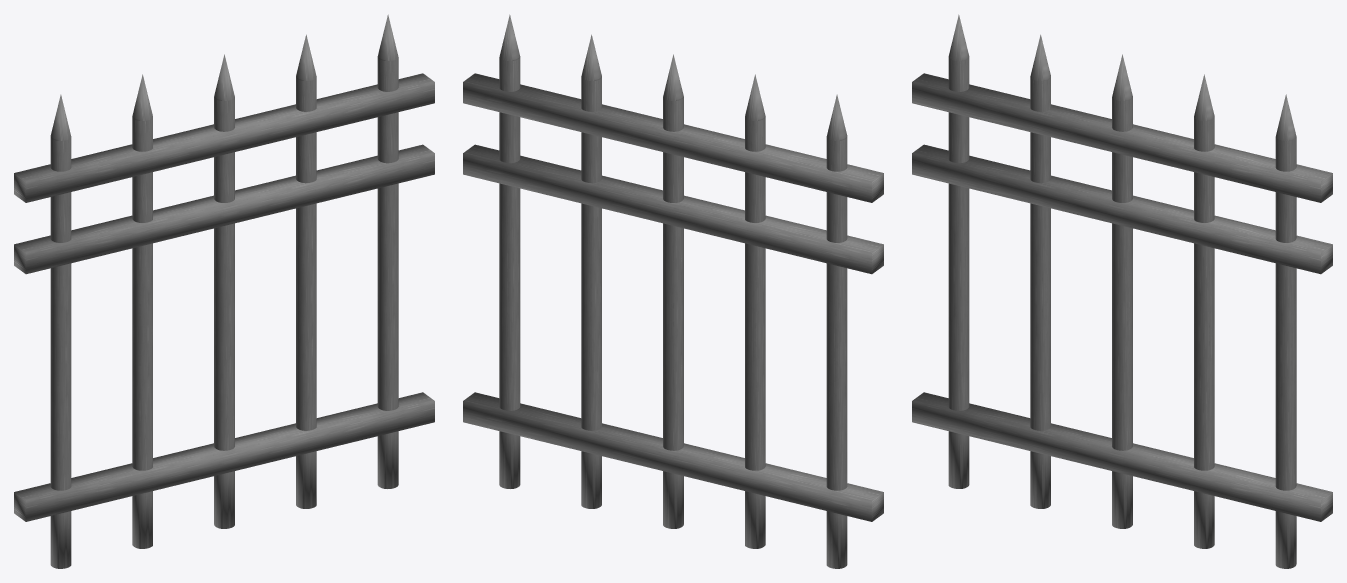
The model's file is metal-fence.obj.
The picture shows the model from 3 angles, left to right: view 1: azimuth 30°, elevation 25°; view 2: azimuth 150°, elevation 25°; view 3: azimuth 330°, elevation 25°; orthographic projection.
Parts seen in each view (by area): view 1: metal-bar; view 2: metal-bar; view 3: metal-bar.
Part boxes in pixels (bbox=[...]): metal-bar: bbox=[14, 14, 434, 568]; metal-bar: bbox=[463, 14, 883, 568]; metal-bar: bbox=[912, 14, 1332, 568].
Bounding box in the file's own units: 5 × 5.5 × 0.25.
Materials: 1 (1 with a texture image).
